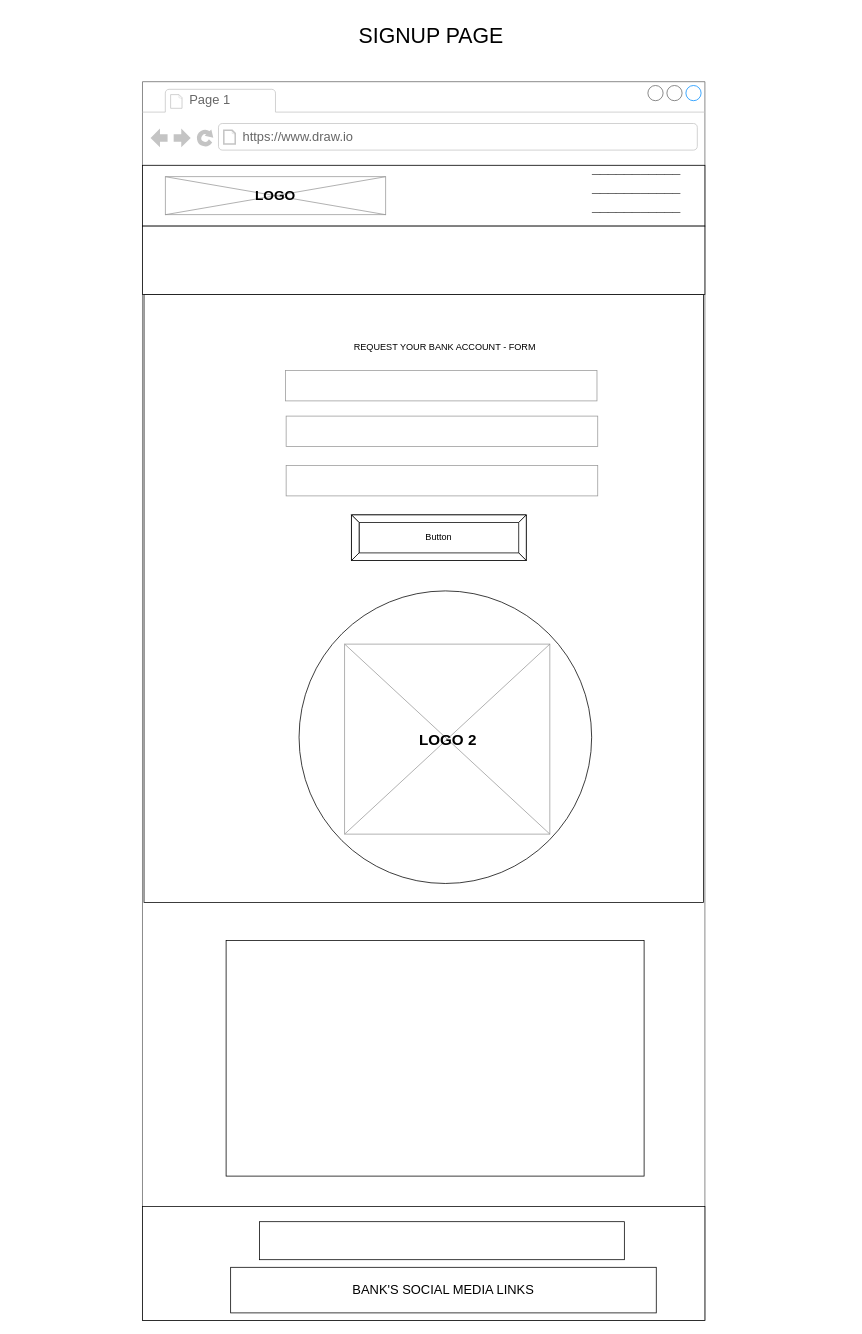
Image size: 862x1334. Some labels were removed from this diagram. The shapes that lost their labels are listed below. From the top down, each one's centre as x and y in pixels, then its label:
At point 423,259: "OPEN ACCOUNT LINK".
At point 434,1058: "MAP".
At point 441,1240: "INSTITUTIONAL INFORMATION".
